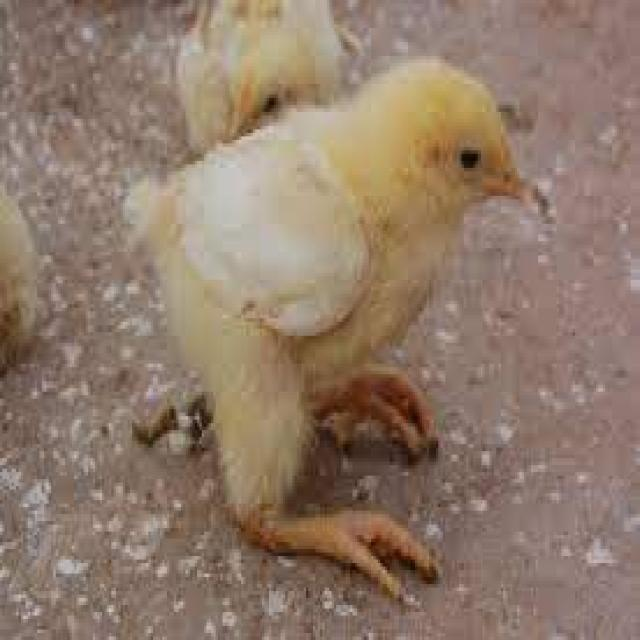AbNormal: (127, 63, 538, 600)
